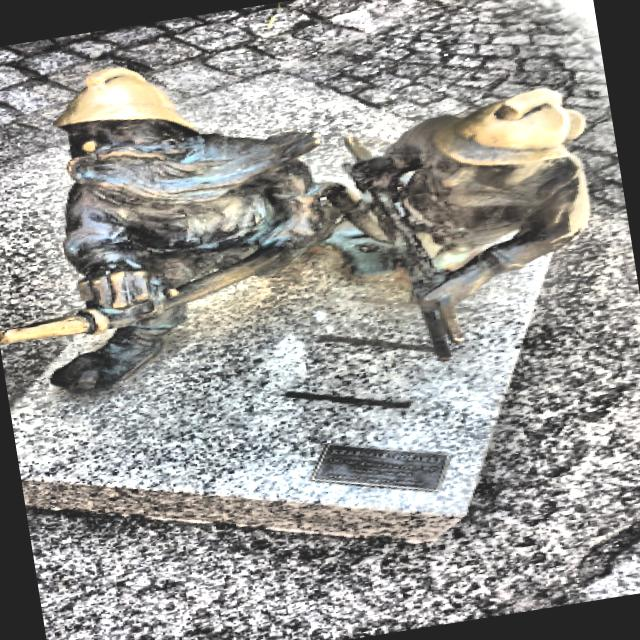Pozarki: (0, 68, 591, 397)
